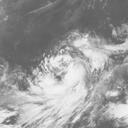cyclone: (42, 55, 90, 99)
